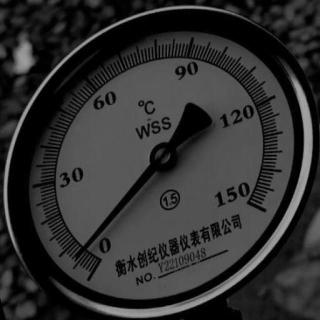gauge: (0, 0, 320, 320), (230, 181, 270, 221), (79, 237, 113, 277), (147, 140, 177, 172), (72, 245, 88, 264)
